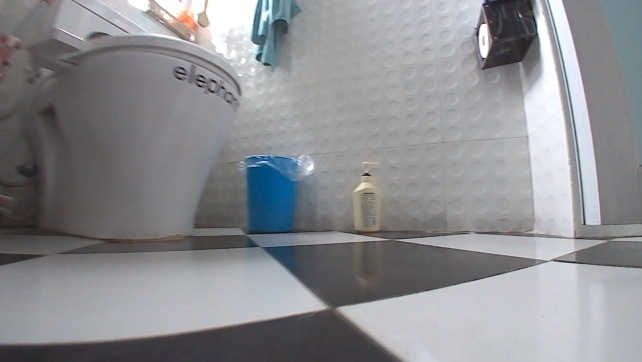toilet: (0, 0, 245, 243)
